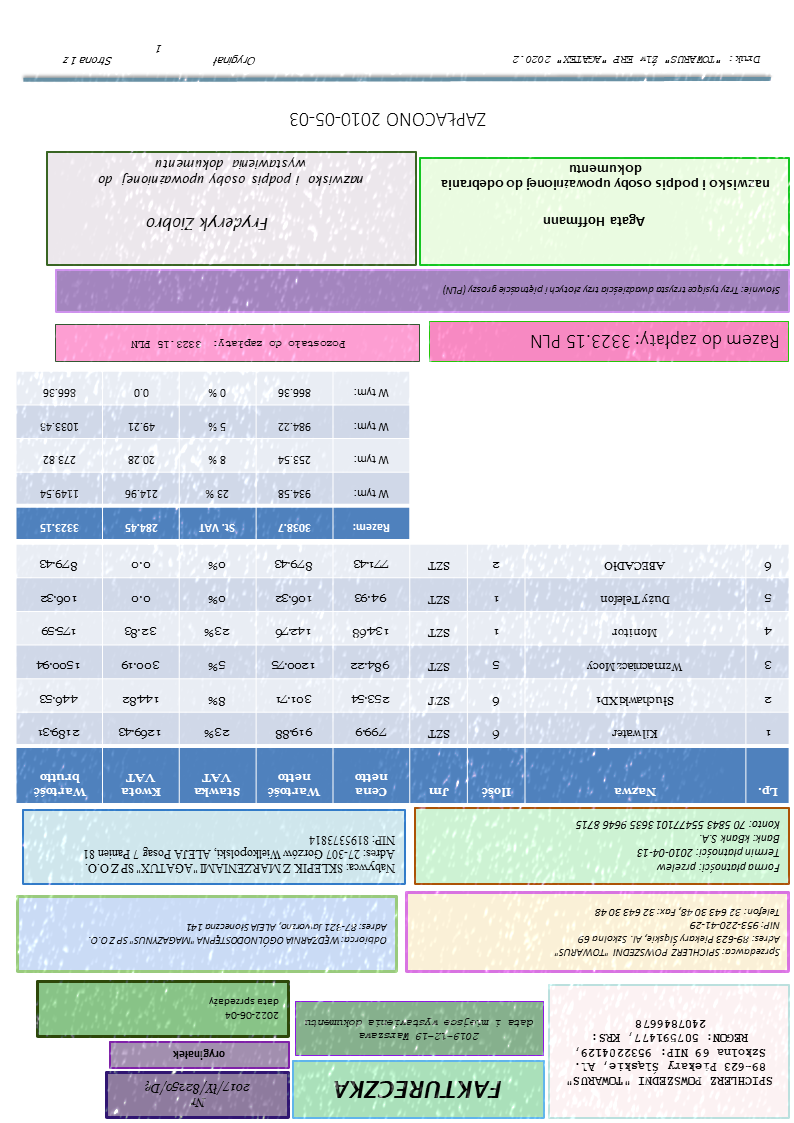Table: (17, 544, 790, 804), (15, 371, 411, 541)
TextBox: (566, 1017, 775, 1088), (80, 833, 397, 877), (551, 905, 783, 959), (574, 817, 783, 876), (440, 163, 771, 194), (86, 921, 391, 949), (97, 157, 365, 188), (303, 1017, 537, 1045), (530, 329, 781, 351), (441, 282, 783, 298), (59, 43, 257, 67), (287, 110, 488, 130), (333, 1078, 503, 1101), (141, 1079, 252, 1110), (130, 336, 347, 351), (512, 53, 762, 66), (144, 212, 271, 235), (207, 995, 281, 1022), (542, 212, 647, 229), (171, 1046, 227, 1063)
